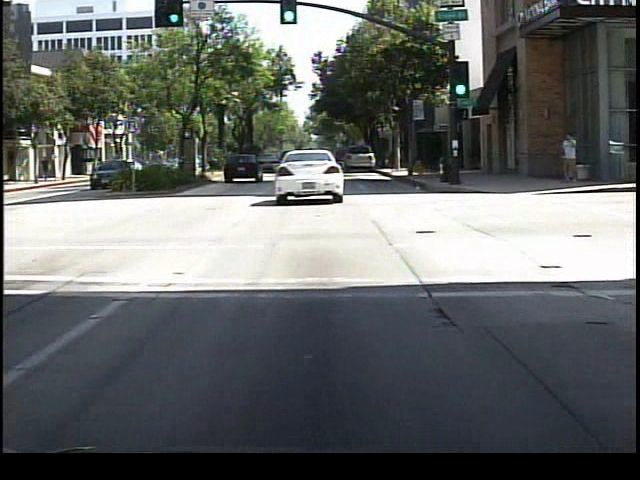person: (557, 132, 582, 188), (39, 155, 54, 189)
